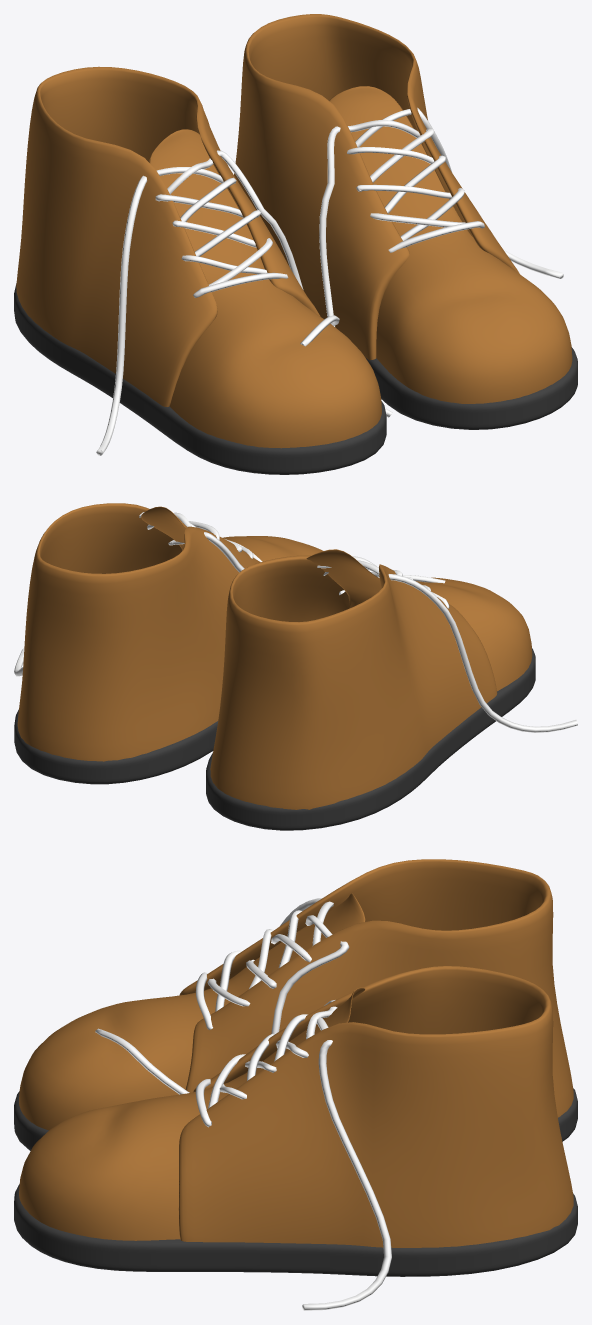
File: shoesclosed2.FBX
3 renders of one model, top to bottom at view 1: azimuth 30°, elevation 25°; view 2: azimuth 150°, elevation 25°; view 3: azimuth 270°, elevation 25°, orthographic. The views are drawn at different scales.
Visible parts, largest first — view 1: shoes; view 2: shoes; view 3: shoes.
Part boxes in pixels (box(x1,y1,x2,y2)): shoes: box(14, 14, 577, 474); shoes: box(14, 503, 577, 830); shoes: box(14, 859, 577, 1310).
Bounding box in the file's own units: 28.82 × 11.5 × 25.05.
